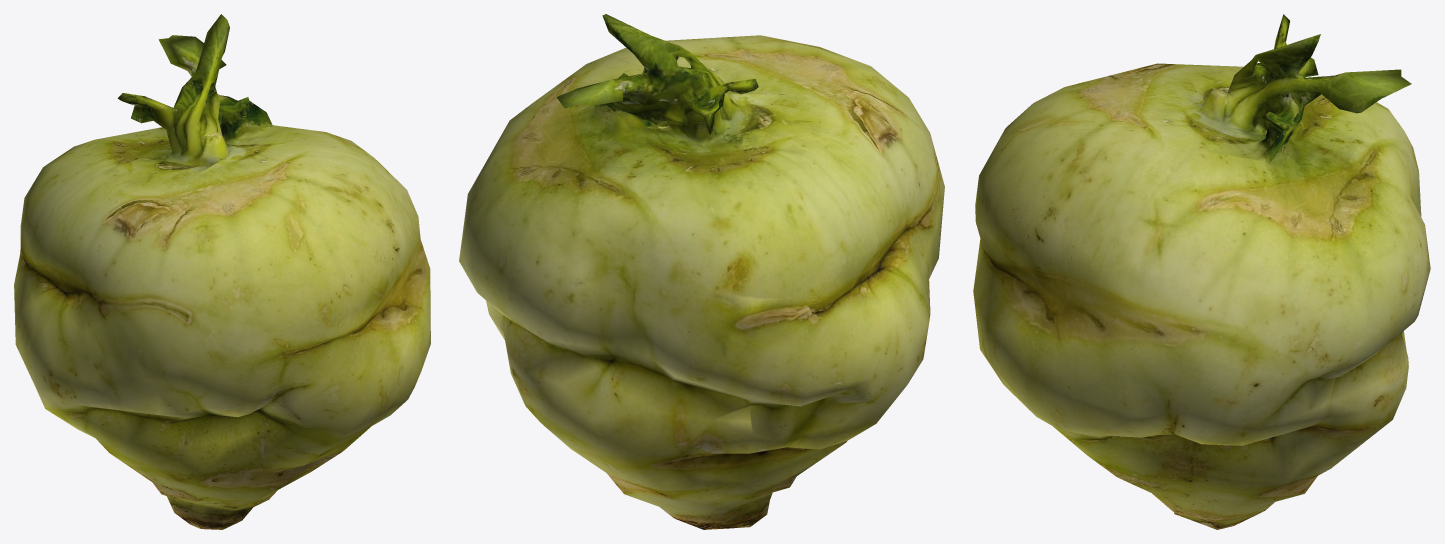
Rendered from 61_kohlrabi.glb.
3 renders of one model, left to right at view 1: azimuth 30°, elevation 25°; view 2: azimuth 150°, elevation 25°; view 3: azimuth 270°, elevation 25°, orthographic. The views are drawn at different scales.
Parts seen in each view (by area): view 1: 61_kohlrabi; view 2: 61_kohlrabi; view 3: 61_kohlrabi.
Boxes of the visible parts, left/top/right/bottom form: 61_kohlrabi: left=14, top=14, right=430, bottom=529; 61_kohlrabi: left=459, top=14, right=944, bottom=529; 61_kohlrabi: left=973, top=14, right=1430, bottom=529.
Bounding box in the file's own units: 0.8939 × 1.06 × 0.855.
1 material, 1 textured.
